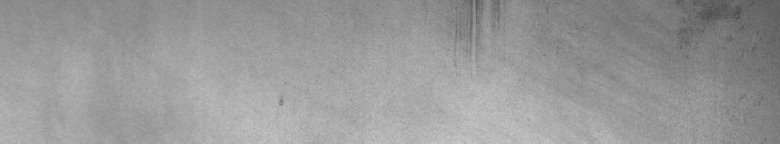ka: (449, 4, 503, 48)
